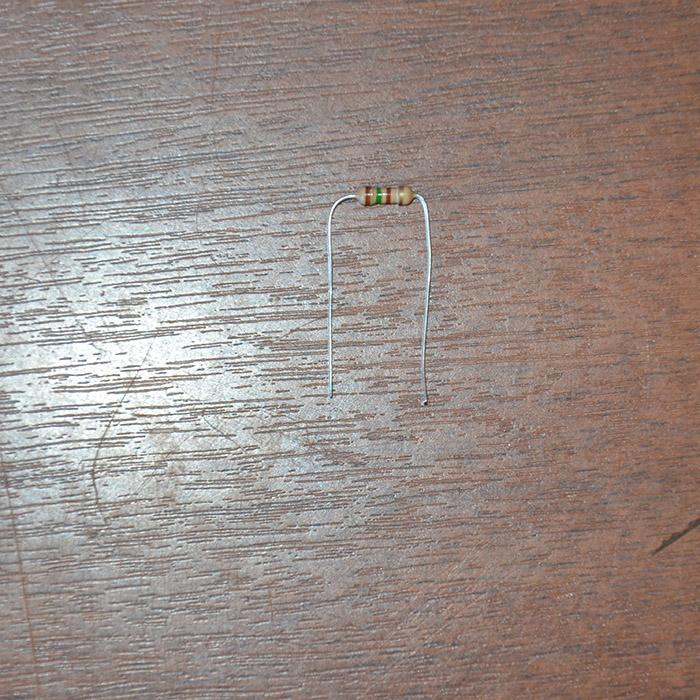resistor: (356, 184, 413, 206)
